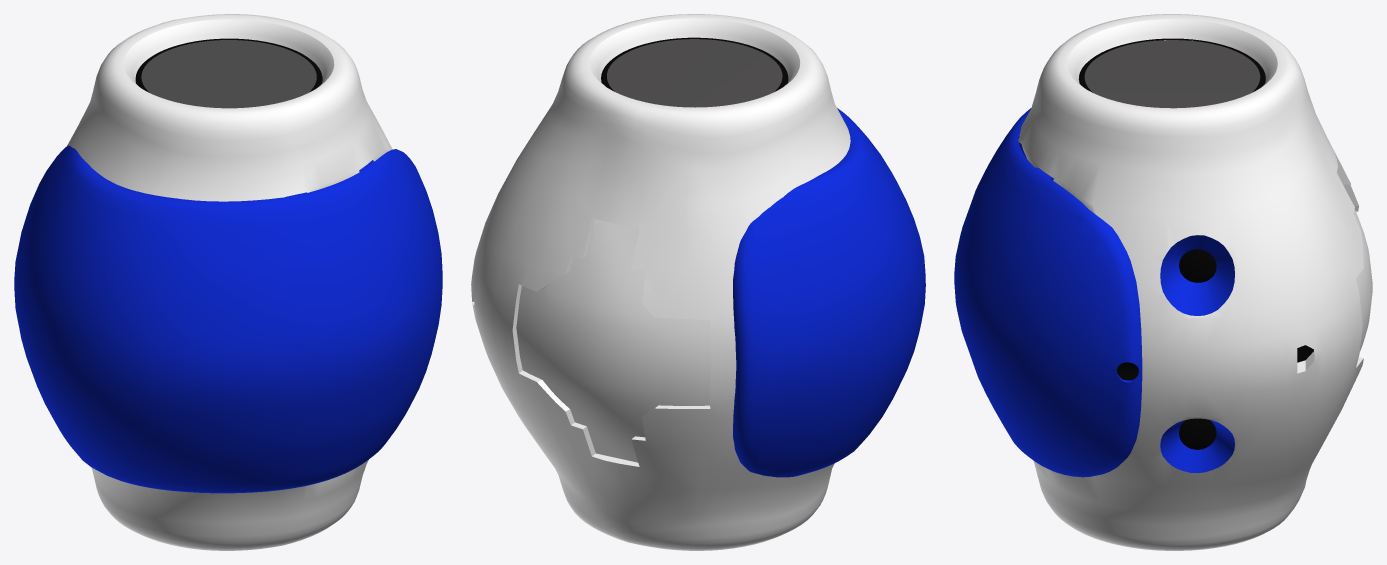
File: HeadPitch.dae
3 views of the same model, side by side, from view 1: azimuth 30°, elevation 25°; view 2: azimuth 150°, elevation 25°; view 3: azimuth 270°, elevation 25° (orthographic).
Parts seen in each view (by area): view 1: HeadPitch; view 2: HeadPitch; view 3: HeadPitch.
Part boxes in pixels (x1,y1,x2,y2): HeadPitch: [14, 14, 442, 550]; HeadPitch: [471, 14, 925, 550]; HeadPitch: [954, 14, 1372, 550].
Bounding box in the file's own units: 1.19 × 1.33 × 1.14.
Materials: 1 (1 with a texture image).
